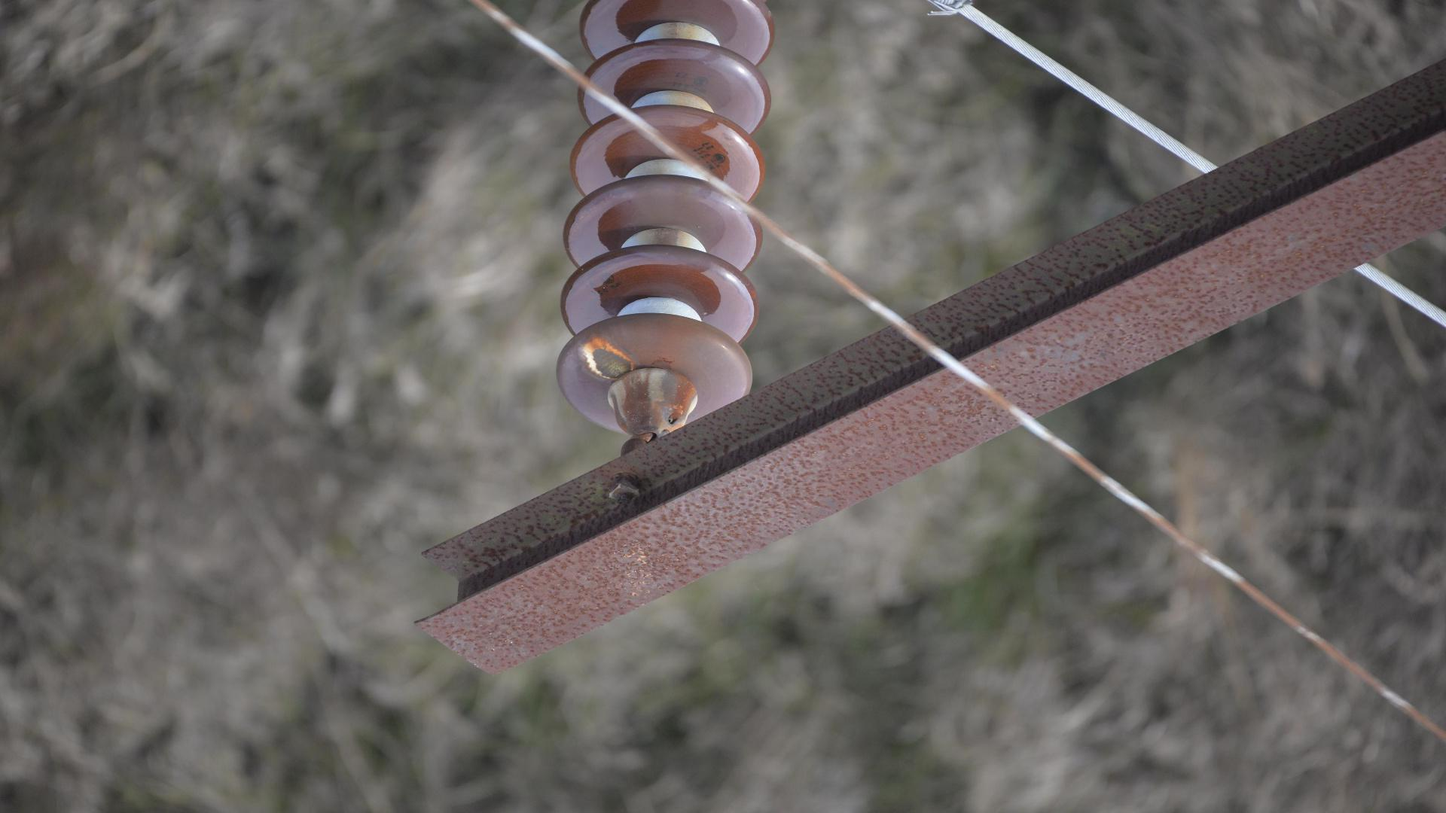insulator: (551, 1, 782, 440)
insulator_flashover: (581, 332, 634, 383)
